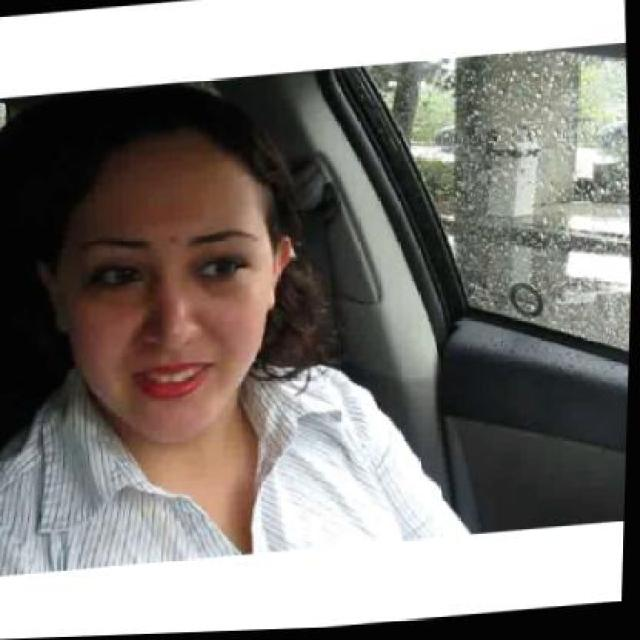attentif: (21, 75, 305, 458)
